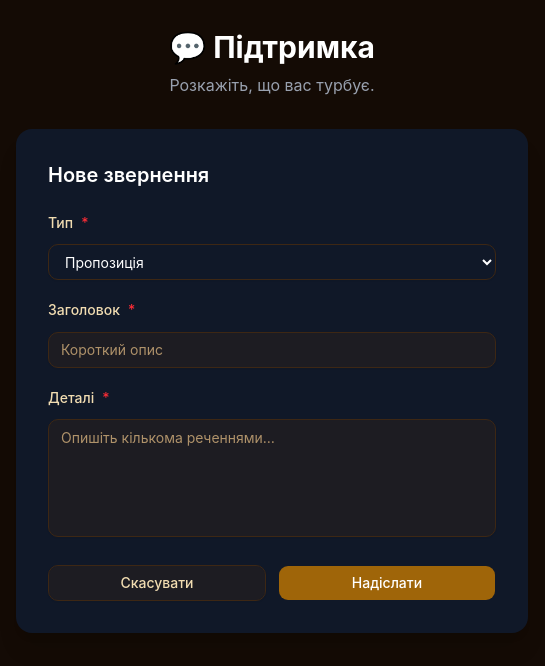
Test case: CreateSubmission › reports the title limit (ab) with SUPPORT.title_min on blur
This screenshot has width=545, height=666.
Click the field with test id "submission-title-input" at (272, 350), box top-left (48, 332), bottom-right (496, 368)
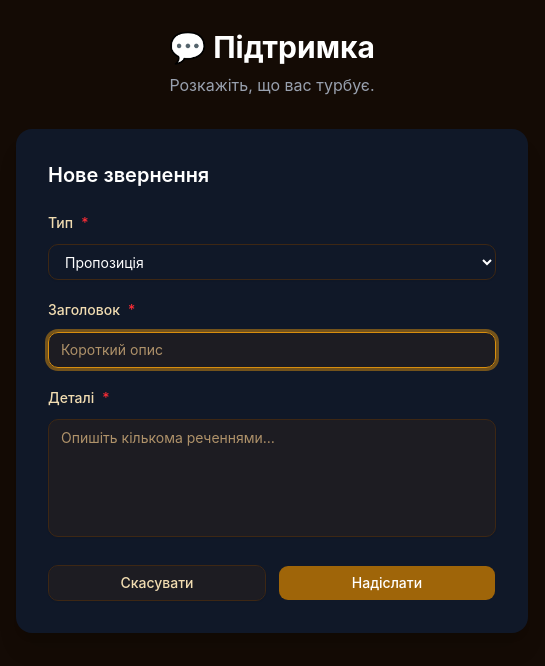
Type keys "ab"
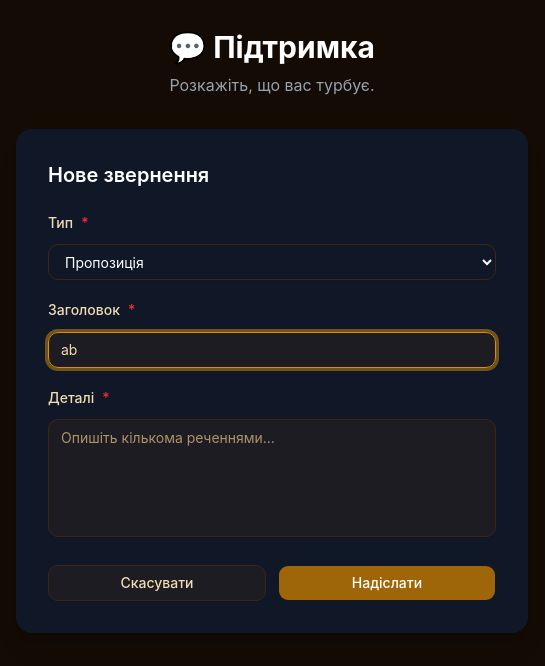
Press Tab
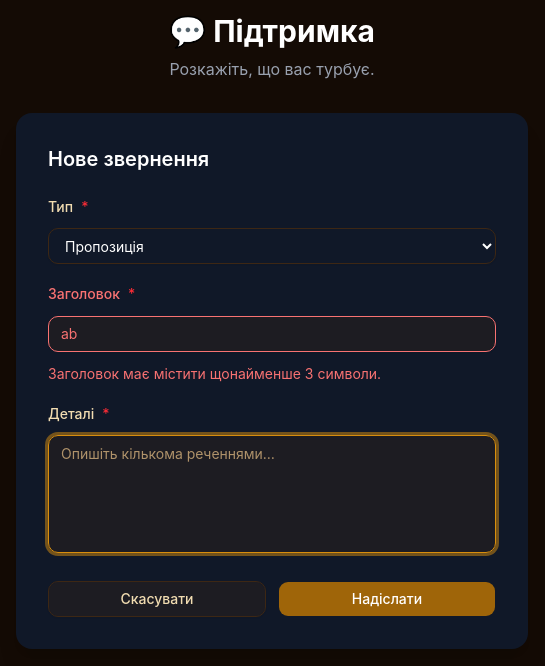
Expected: the text "Заголовок має містити щонайменше 3 символи." is shown, top-left (48, 365), bottom-right (381, 382)
